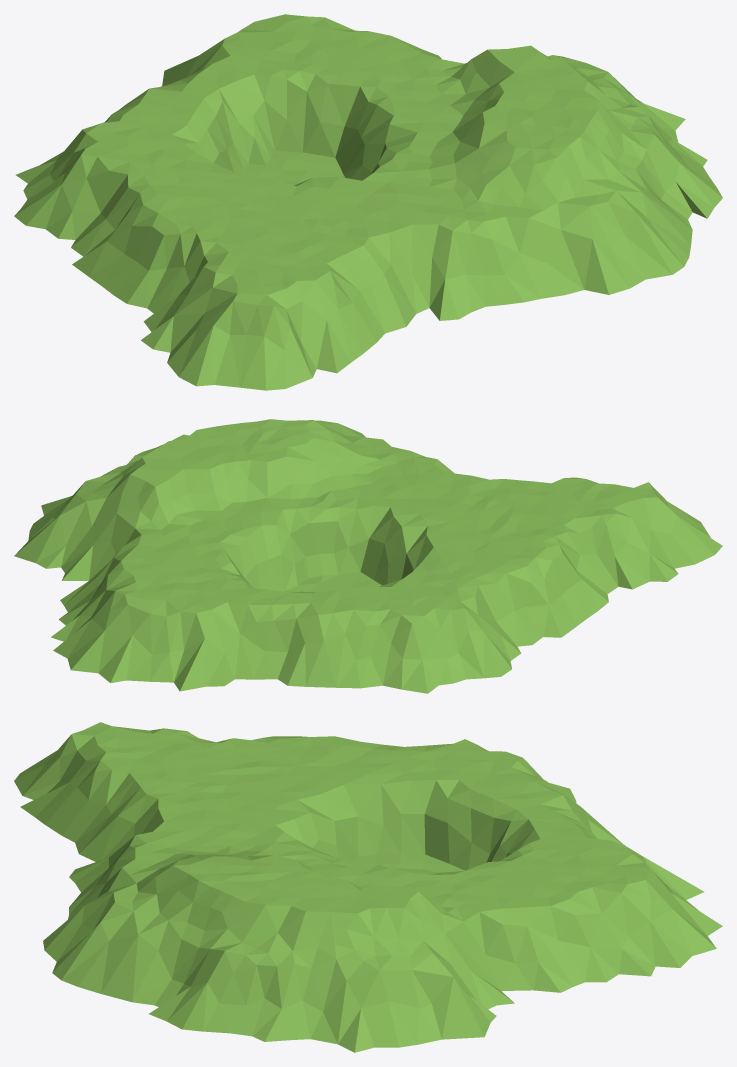
The model's file is MT_Island_L_b_08_LOD.fbx.
3 views of the same model, one above another, from view 1: azimuth 30°, elevation 25°; view 2: azimuth 150°, elevation 25°; view 3: azimuth 270°, elevation 25° (orthographic). The views are drawn at different scales.
Parts seen in each view (by area): view 1: MT_Island_L_b_08_LOD0; view 2: MT_Island_L_b_08_LOD0; view 3: MT_Island_L_b_08_LOD0.
Part boxes in pixels (left/top/right/bottom): MT_Island_L_b_08_LOD0: left=14, top=14, right=722, bottom=390; MT_Island_L_b_08_LOD0: left=14, top=419, right=722, bottom=693; MT_Island_L_b_08_LOD0: left=14, top=722, right=722, bottom=1052.
Size of what is drawn, in the model's own units: 9736 by 1269 by 9571.
